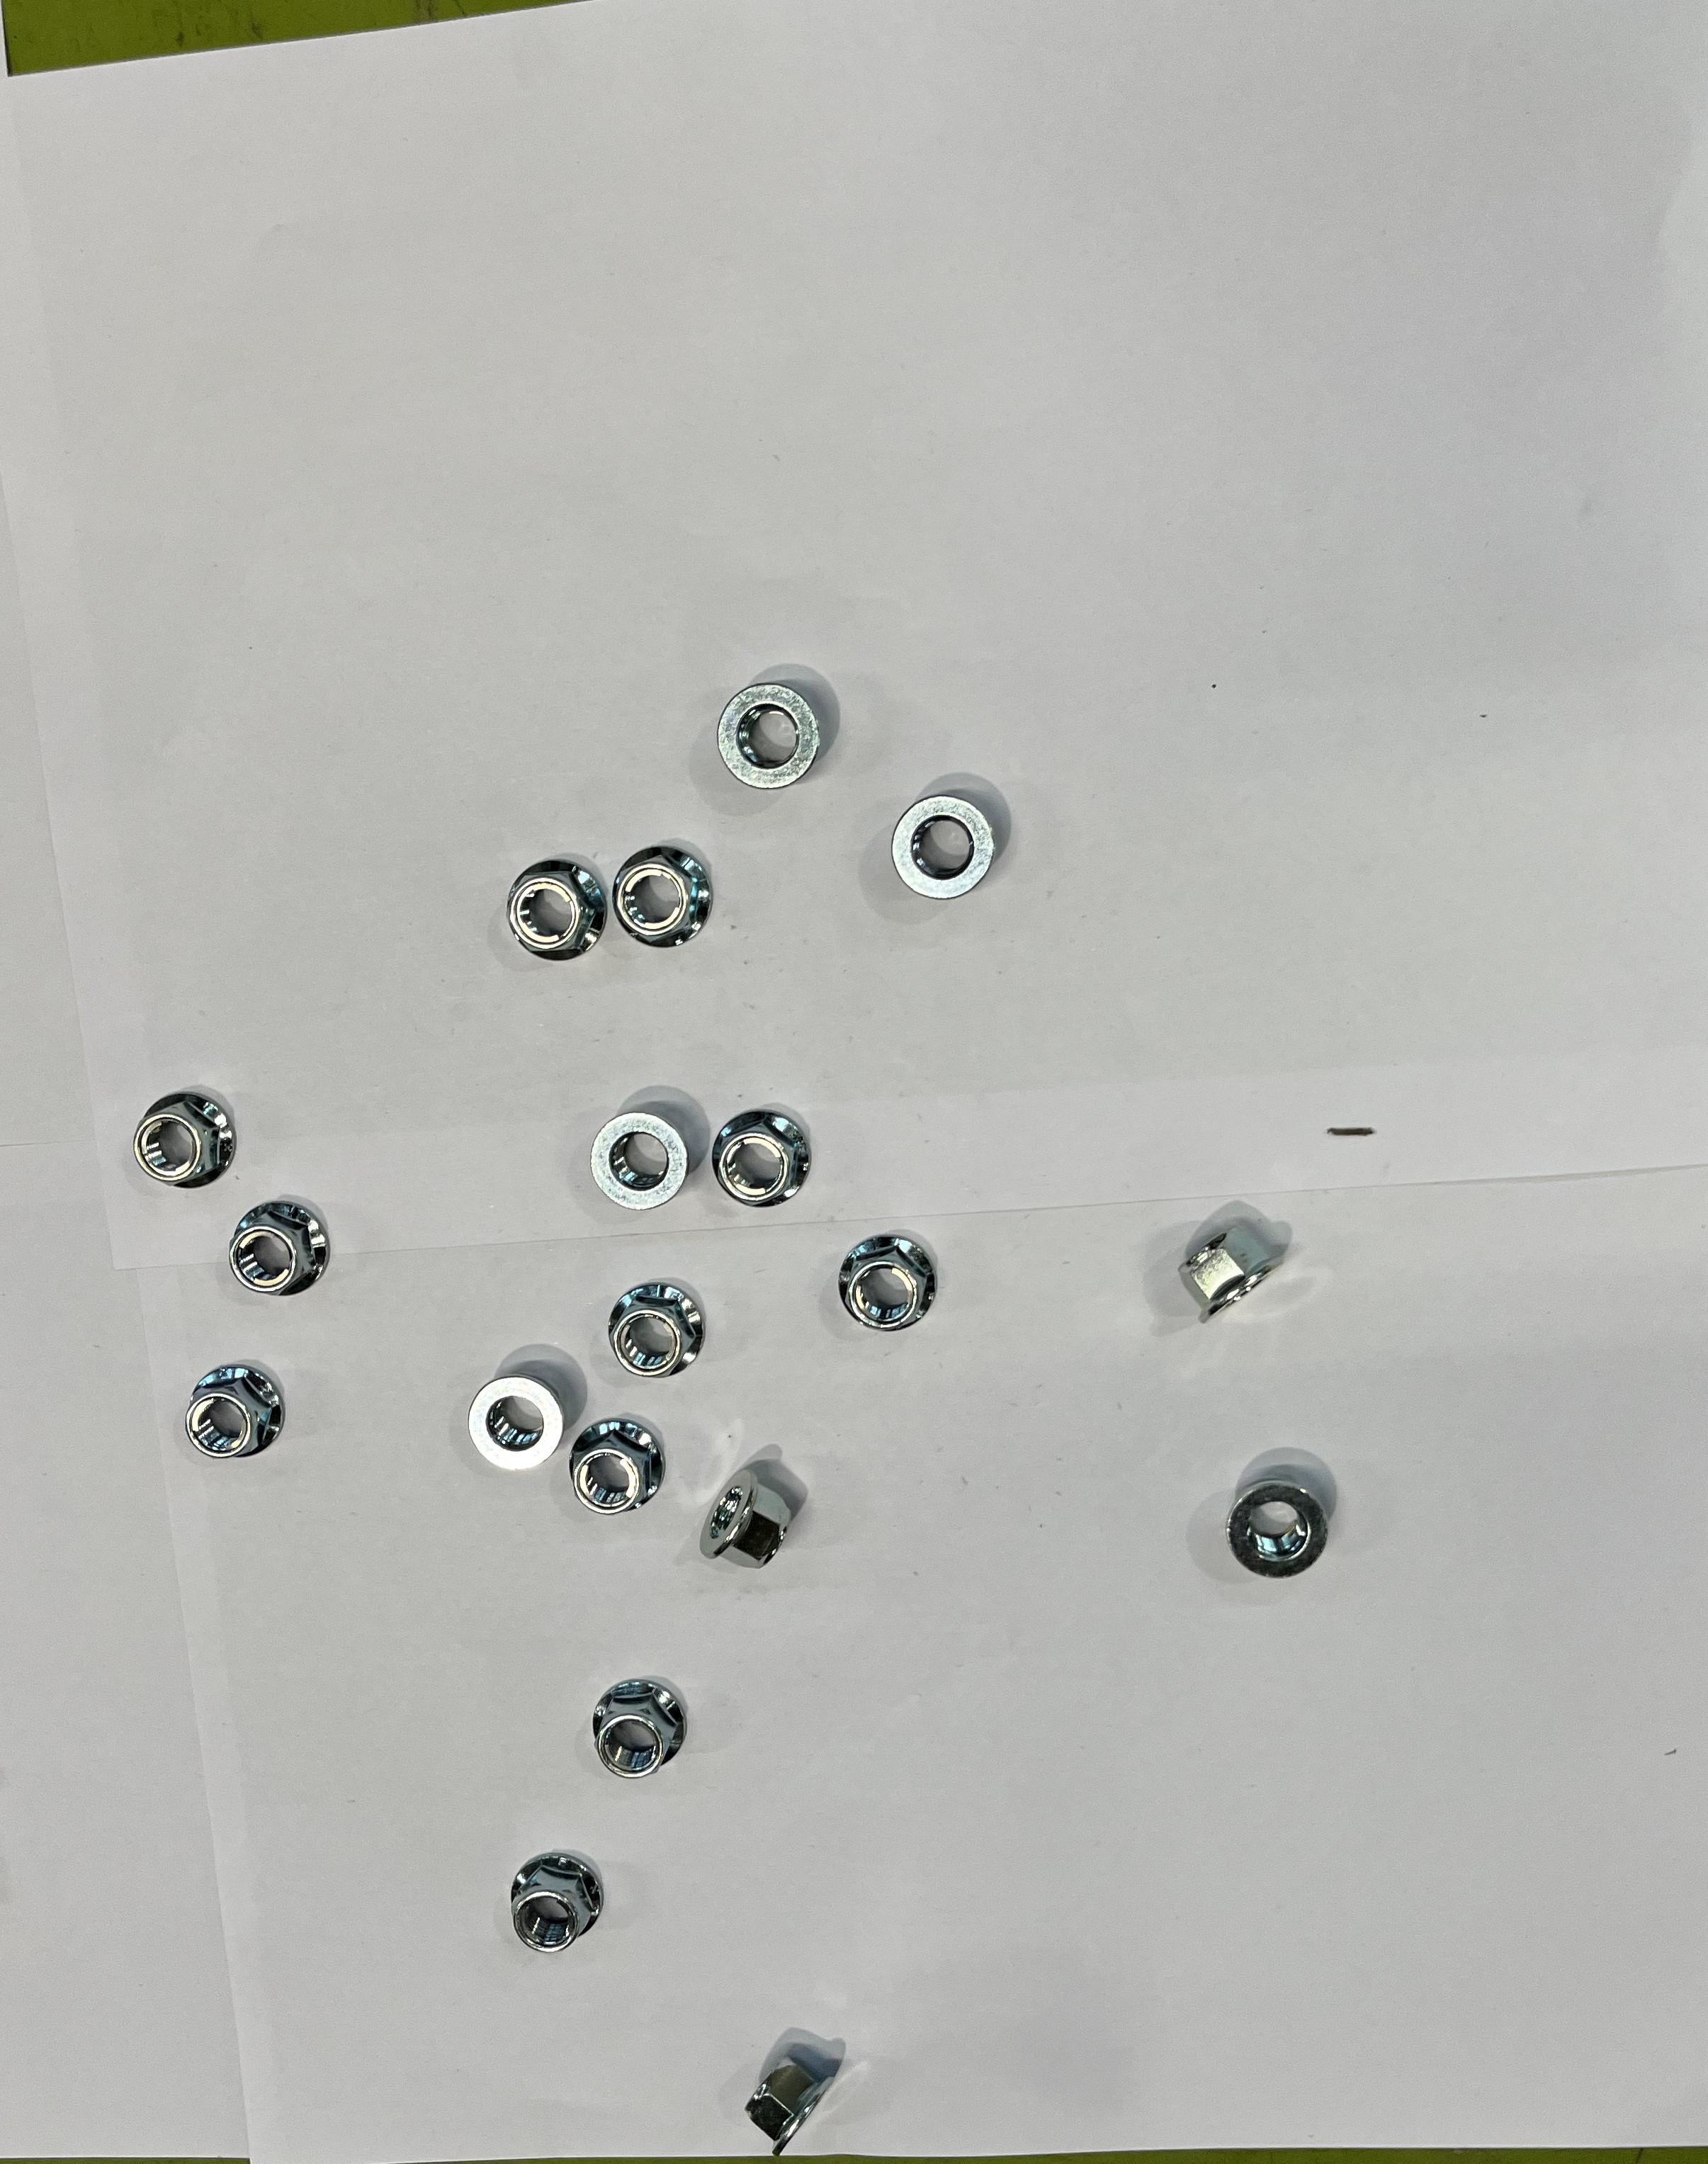Type B: (711, 678, 820, 790), (892, 794, 995, 898), (1183, 1215, 1281, 1324), (504, 1850, 606, 1953), (1229, 1479, 1332, 1581), (507, 854, 606, 961), (700, 1468, 797, 1577), (585, 1115, 688, 1214), (132, 1093, 239, 1187), (588, 1677, 688, 1778), (186, 1361, 288, 1460), (613, 843, 709, 947), (739, 2057, 837, 2157), (713, 1110, 811, 1207), (606, 1286, 704, 1381), (228, 1201, 328, 1295), (834, 1240, 937, 1330), (469, 1379, 560, 1472), (576, 1419, 658, 1518)
